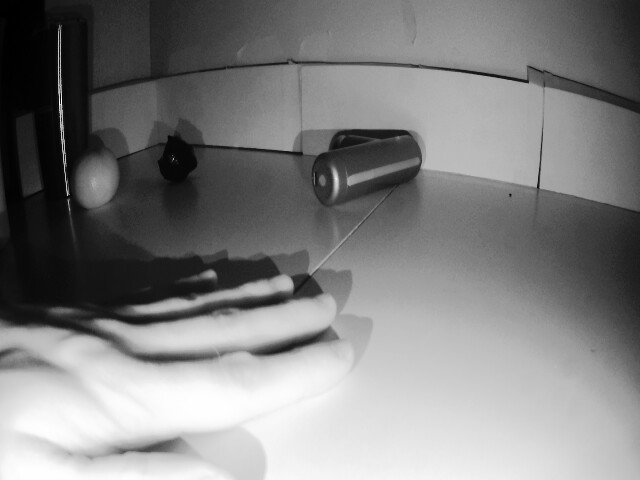black: (154, 135, 199, 190)
